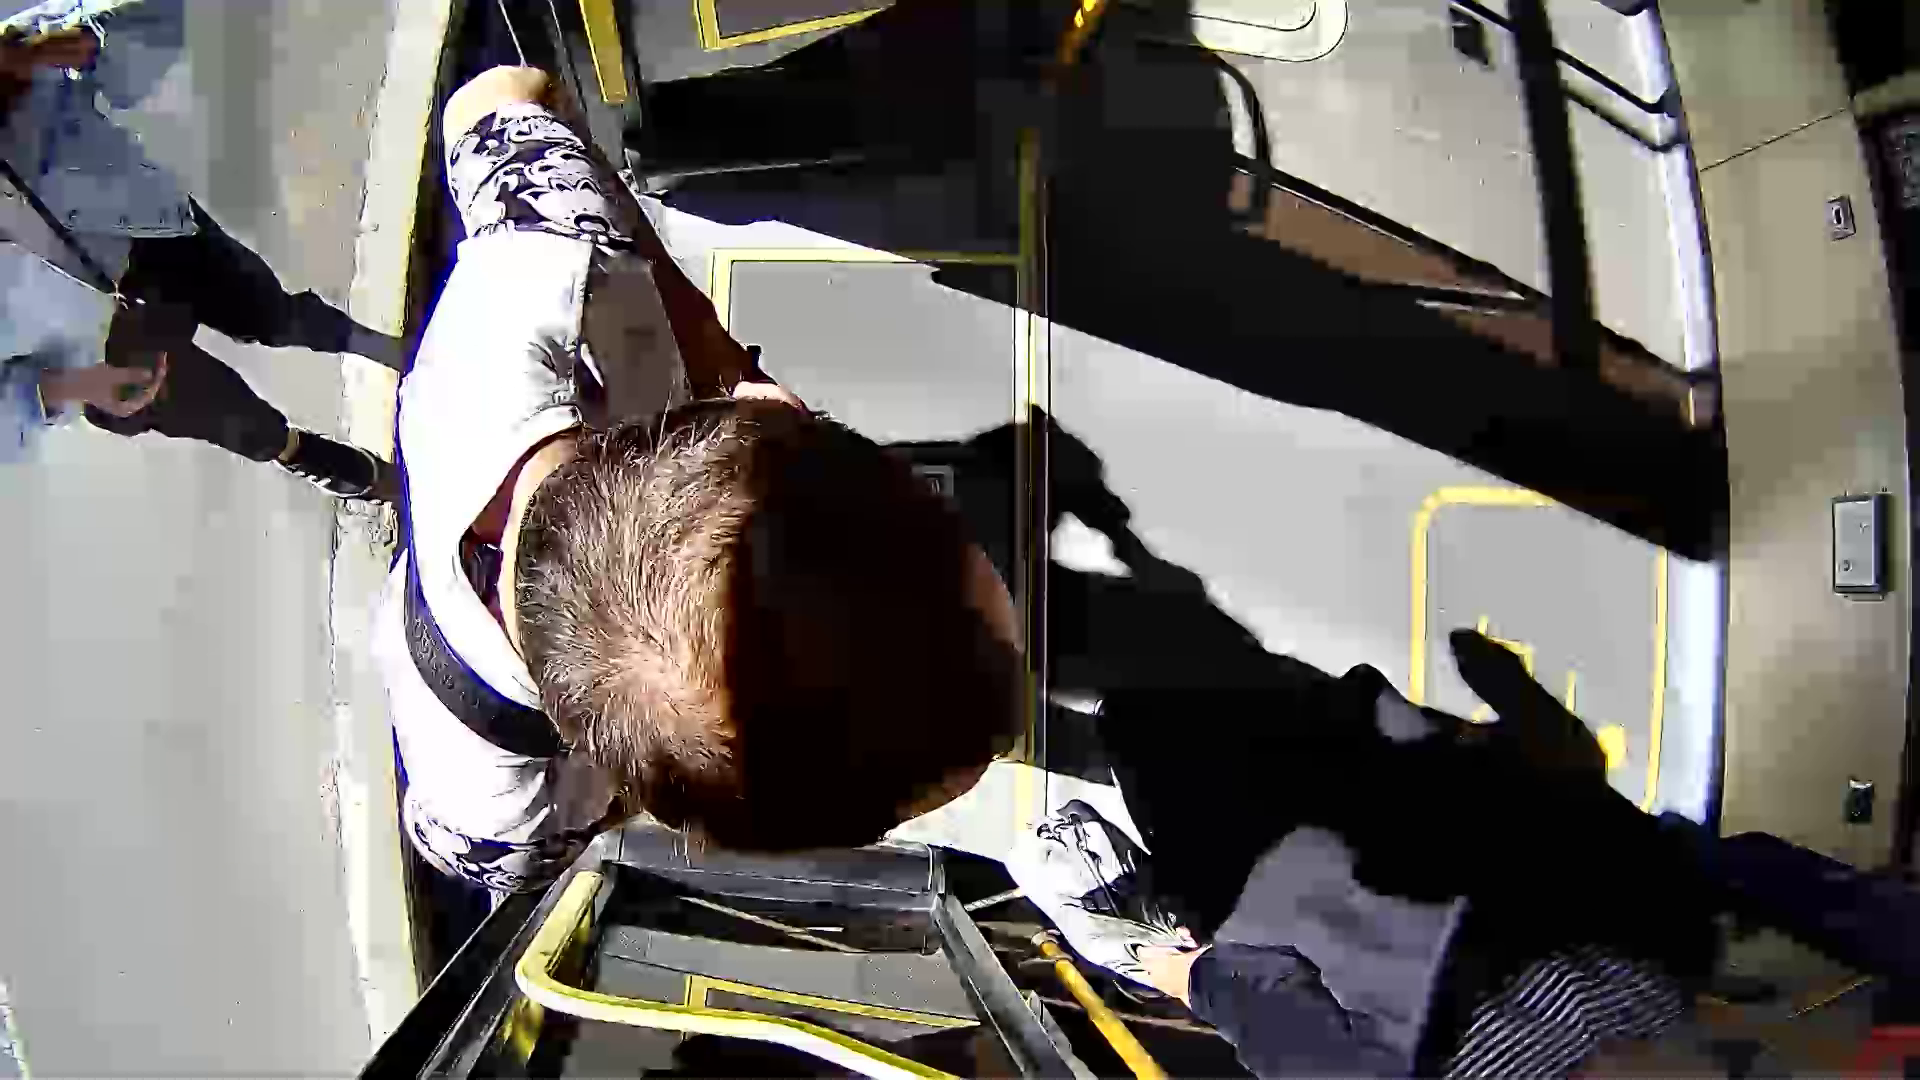person: (329, 118, 1152, 885)
